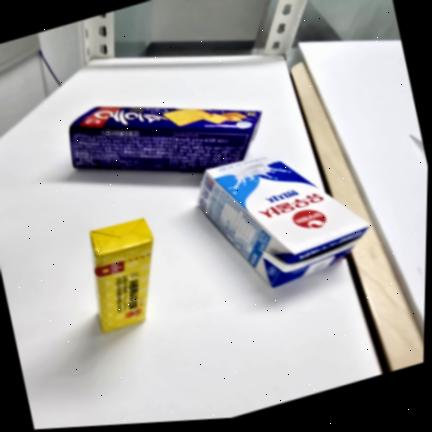cracker_ace: (70, 106, 262, 172)
gum_yellow: (90, 219, 153, 333)
milk_blue: (198, 157, 369, 287)
